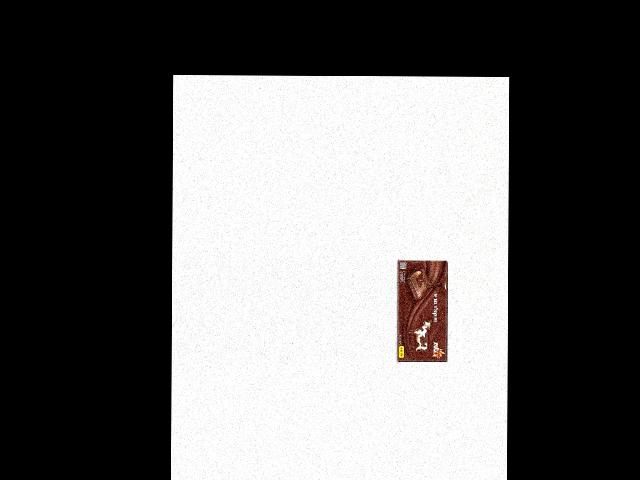chocolate: (396, 261, 448, 364)
